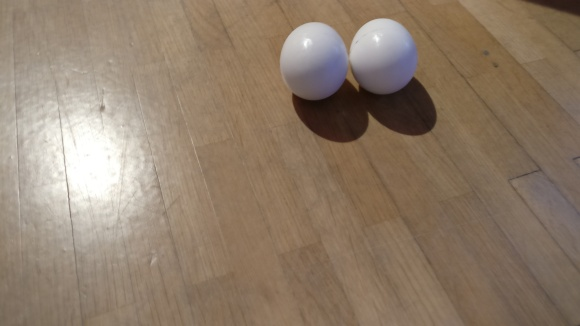egg: (278, 22, 349, 103), (350, 16, 419, 96)
